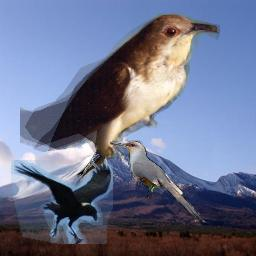Crow: (11, 160, 113, 244)
Cuckoo: (20, 13, 220, 159), (110, 140, 206, 224)
Swallow: (76, 147, 105, 184)
